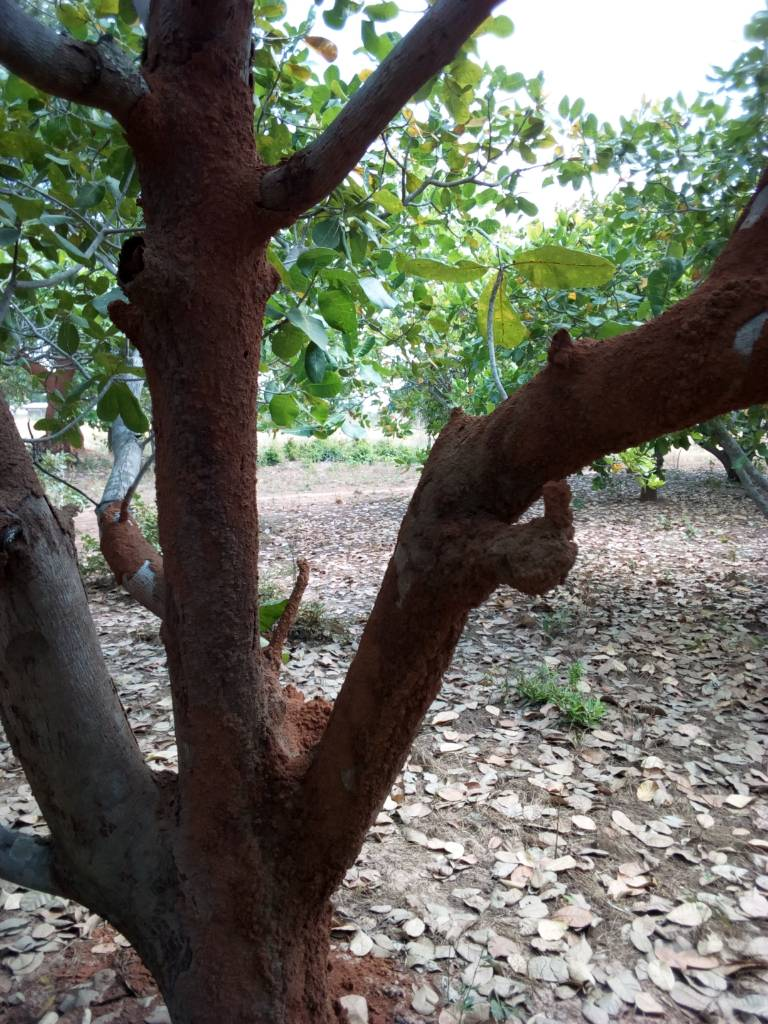Termites: (157, 277, 269, 810), (438, 314, 682, 496), (319, 580, 460, 799), (200, 830, 332, 1022), (421, 492, 577, 578)
